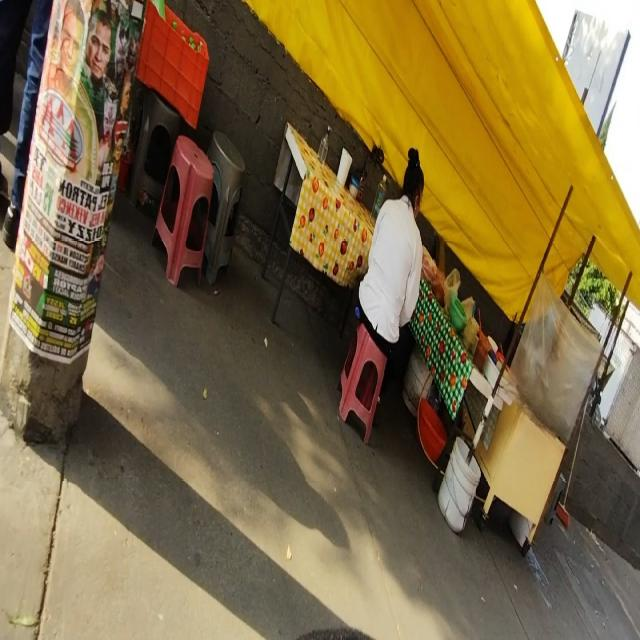adult: (354, 144, 424, 367)
